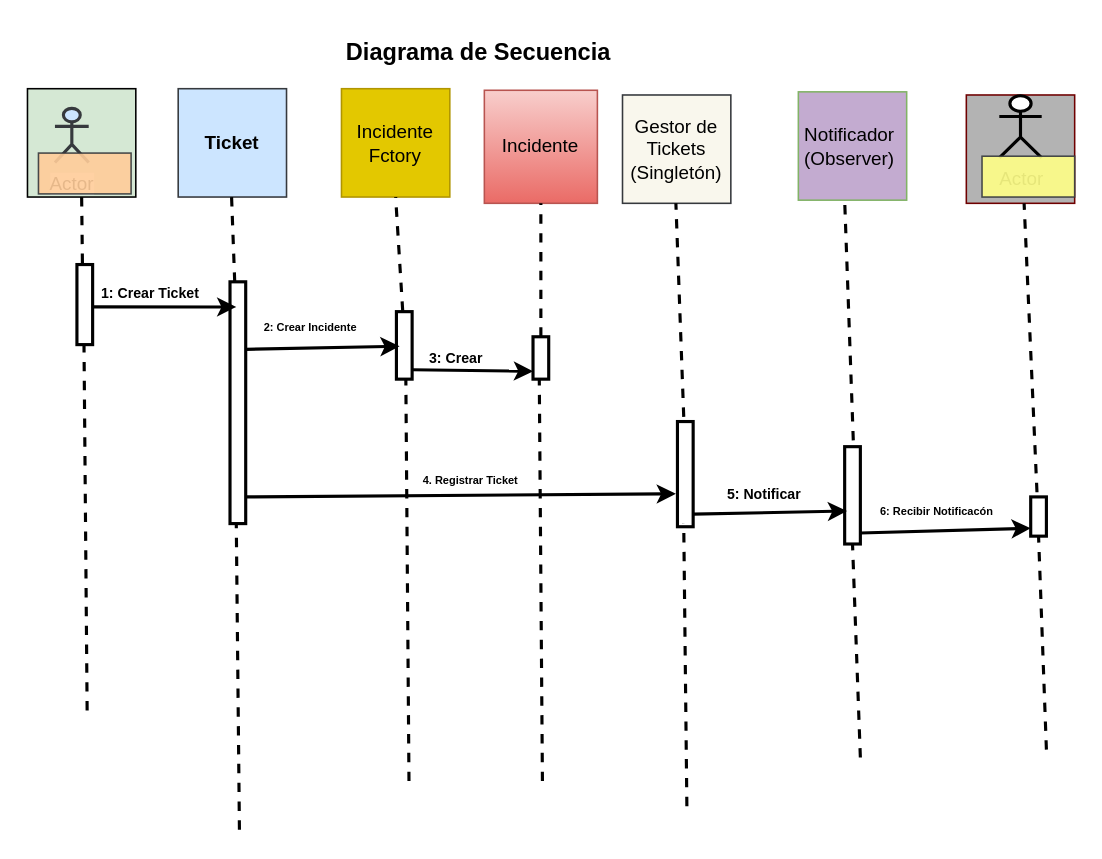
Image size: 1102x859. Some labels were removed from this diagram. Here are the shapes that lost their labels. From the top down, the centre of each, then its label:
the point at 84,173: Usuario
the point at 1027,176: Tecnico
